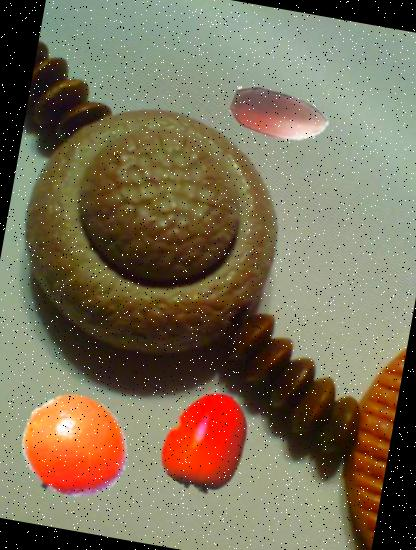Hazelnut: (222, 58, 338, 174)
Kaki: (150, 382, 268, 500)
Tangelo: (10, 384, 138, 511)
